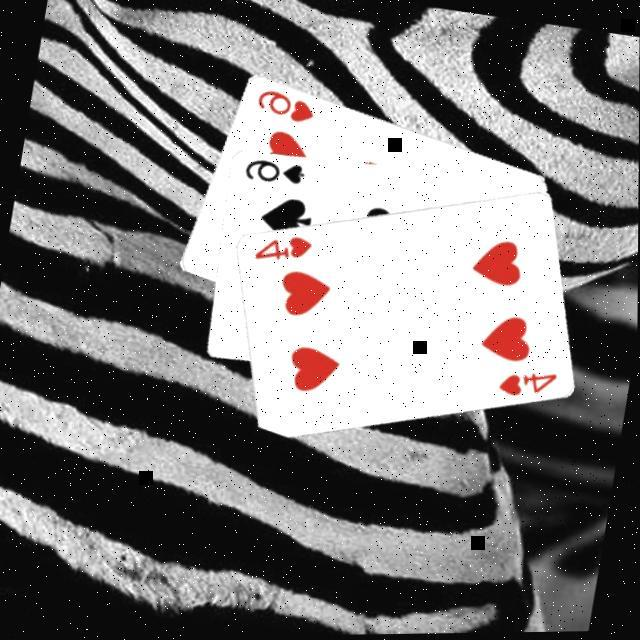4H: (248, 225, 316, 270), (492, 362, 559, 406)
6H: (249, 83, 318, 128)
6S: (238, 152, 307, 191)
